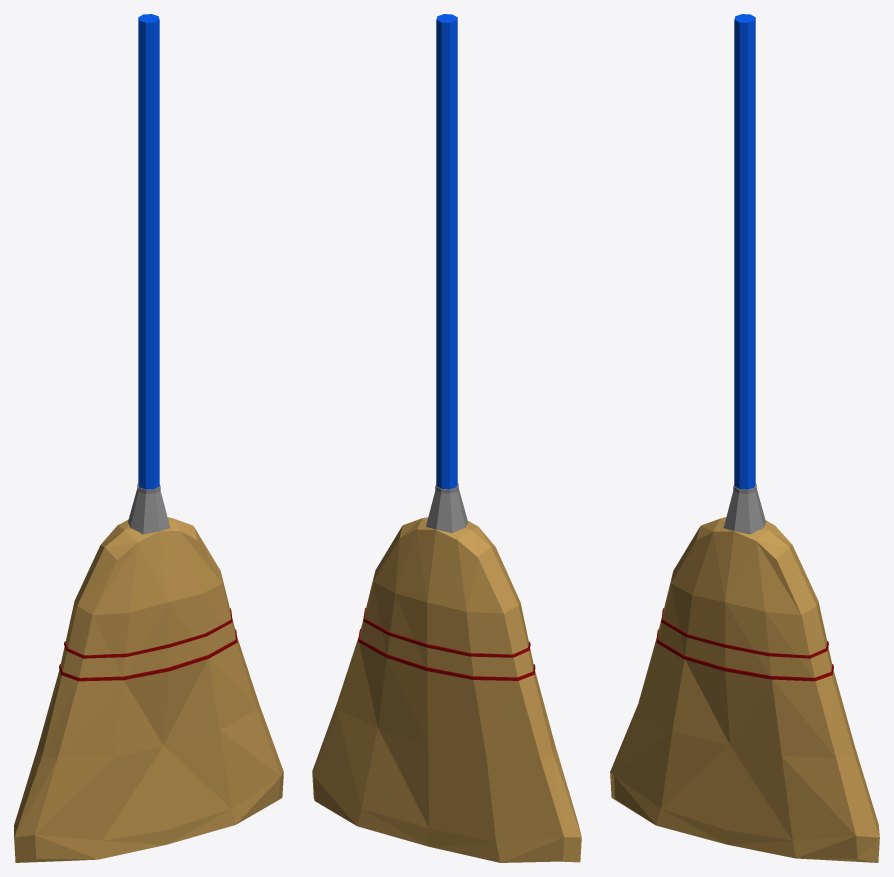
Rendered from Broom by Poly by Google - bzCi_ZLQPN4.glb.
The picture shows the model from 3 angles, left to right: view 1: azimuth 30°, elevation 25°; view 2: azimuth 150°, elevation 25°; view 3: azimuth 330°, elevation 25°; orthographic projection.
Parts seen in each view (by area): view 1: Node; view 2: Node; view 3: Node.
Boxes of the visible parts, box(x1,y1,x2,y2) form: Node: box(14, 14, 283, 862); Node: box(312, 14, 581, 862); Node: box(610, 14, 879, 862).
Size of the model in its own units: 3.22 by 9.4 by 0.8515.
